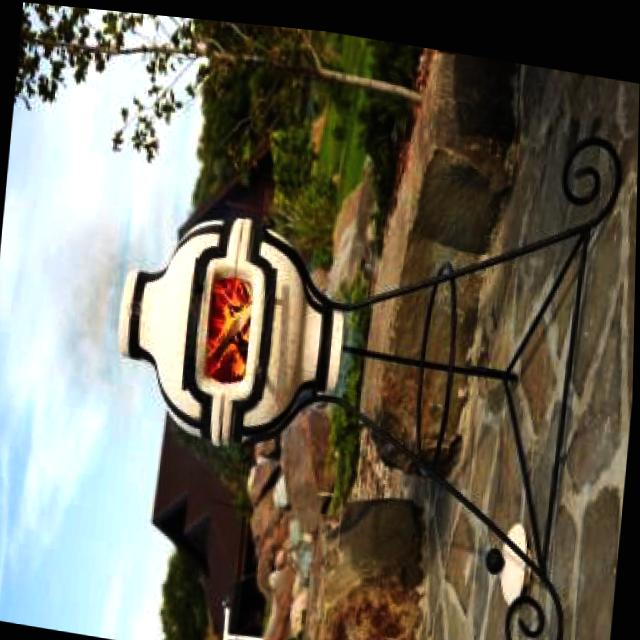helmet: (203, 261, 265, 382)
